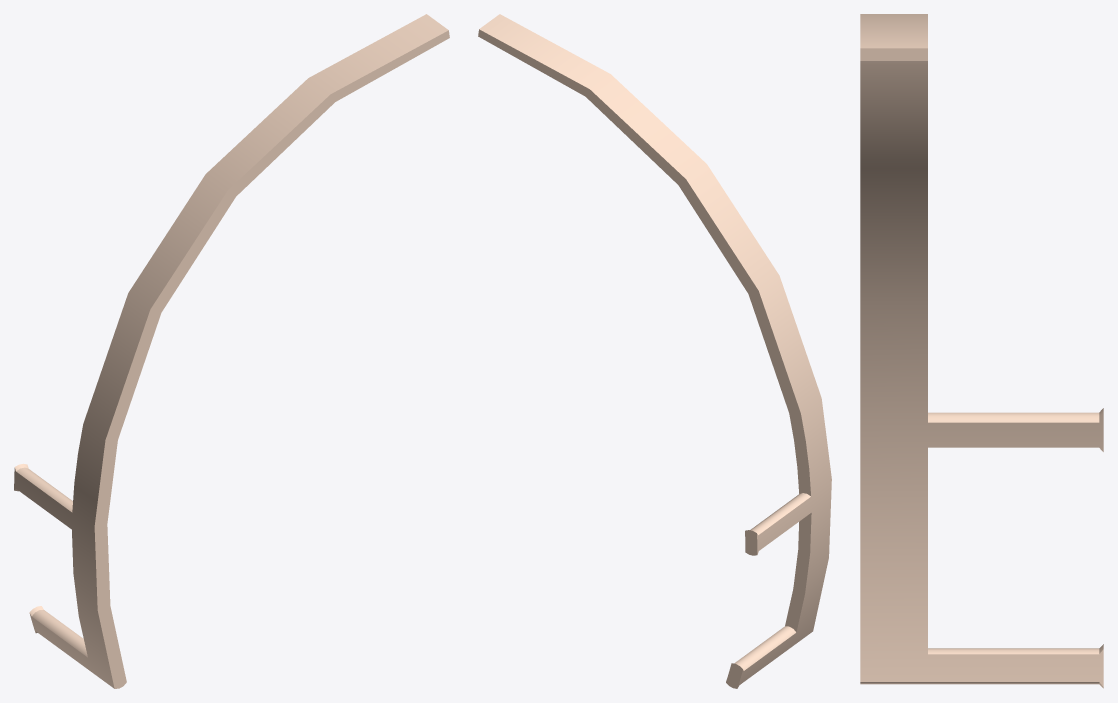
File: Ressort barillet Quarts.obj
3 renders of one model, left to right at view 1: azimuth 30°, elevation 25°; view 2: azimuth 150°, elevation 25°; view 3: azimuth 270°, elevation 25°, orthographic. The views are drawn at different scales.
Visible parts, largest first — view 1: Face_5, Face_11, Face_6, Face_12, Face_13; view 2: Face_5, Face_6, Face_3, Face_4, Face_12, Face_13; view 3: Face_8, Face_9, Face_5, Face_13, Face_12, Face_10, Face_7.
Part boxes in pixels (x1,y1,x2,y2): Face_5: (83, 14, 448, 439); Face_11: (94, 30, 449, 688); Face_6: (14, 424, 114, 688); Face_12: (32, 610, 87, 657); Face_13: (16, 467, 72, 512); Face_5: (479, 14, 821, 412); Face_6: (737, 398, 831, 688); Face_3: (478, 29, 810, 495); Face_4: (785, 513, 811, 632); Face_12: (734, 626, 795, 670); Face_13: (750, 493, 810, 534); Face_8: (860, 303, 1103, 686); Face_9: (860, 61, 927, 303); Face_5: (860, 14, 927, 48); Face_13: (928, 412, 1099, 422); Face_12: (928, 648, 1099, 654); Face_10: (860, 48, 927, 60); Face_7: (860, 682, 1099, 684).
Size of the model in its own units: 0.0277 by 0.0433 by 0.0108.
